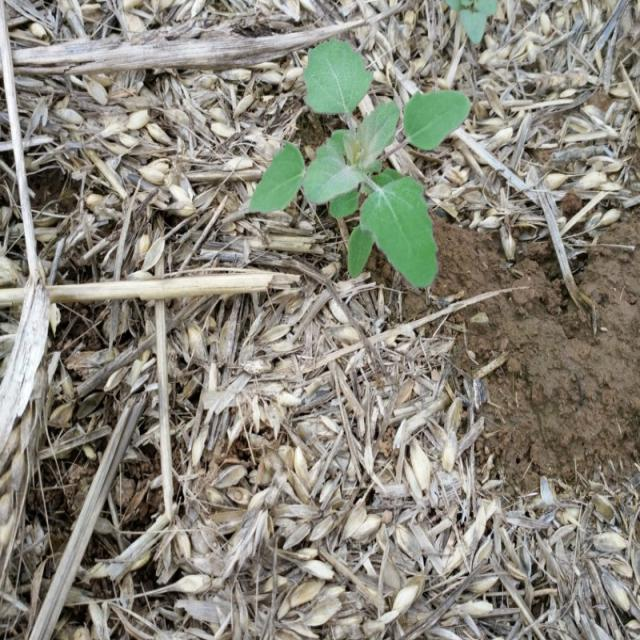goosefoots: (236, 38, 458, 284)
